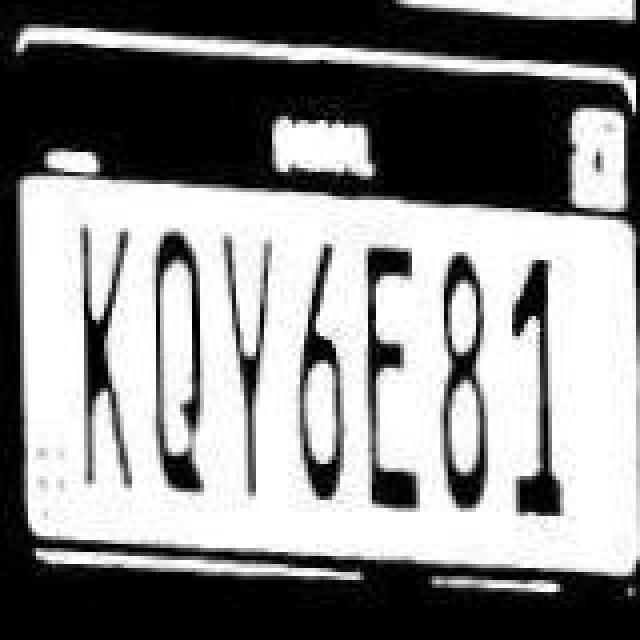1: (500, 248, 576, 552)
6: (288, 226, 352, 526)
8: (432, 242, 500, 538)
E: (358, 224, 430, 532)
K: (72, 220, 136, 508)
Q: (140, 210, 212, 514)
Y: (218, 220, 278, 512)
